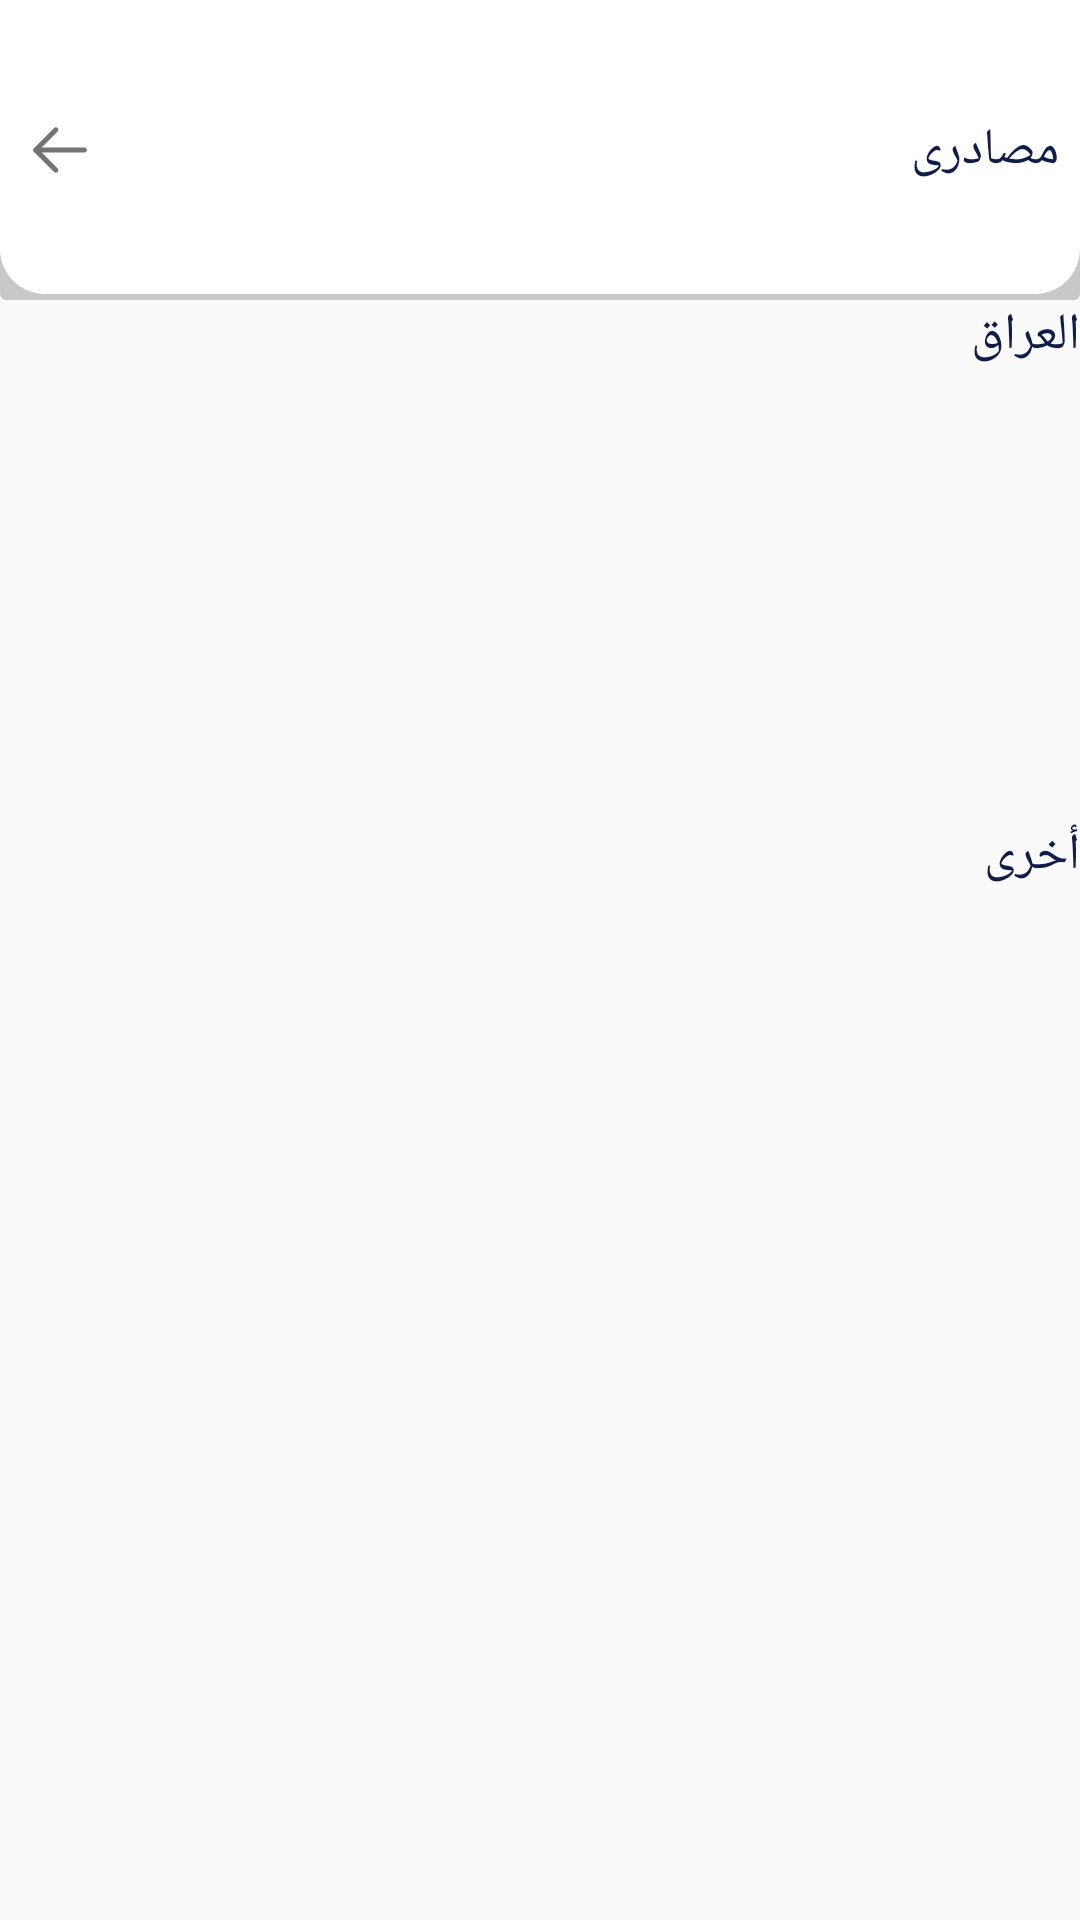

Named icons in this screenshot (1080 x 1920) and their bounding boxes, (x1, y1, x2, y2):
back ion: (33, 127, 87, 173)
